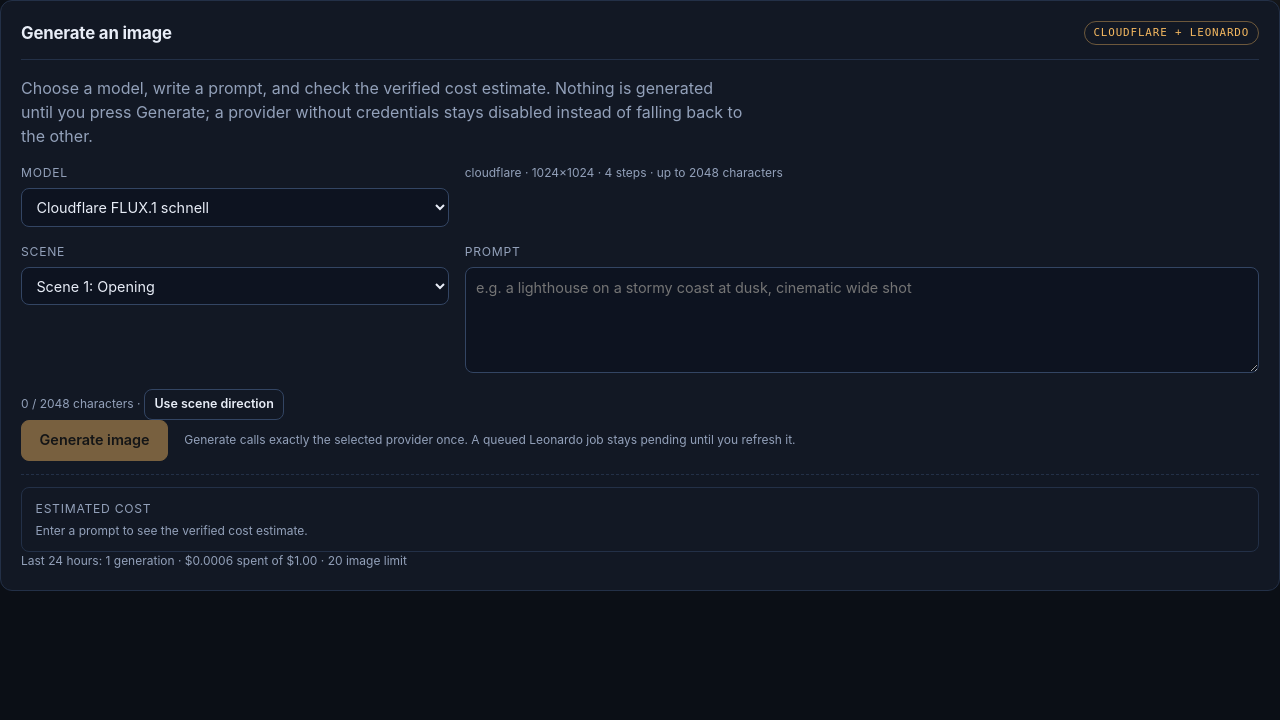
Test: GeneratePanel › shows the verified estimate and waits for an explicit Generate
Expected: the text named "Daily image spend" shows "$0.0006", x1=21 y1=553 x2=407 y2=568
Expected: the text named "Daily image spend" shows "20 image limit", x1=317 y1=553 x2=407 y2=568
Click the button "Use scene direction" at (214, 404), box x1=144 y1=389 x2=284 y2=420
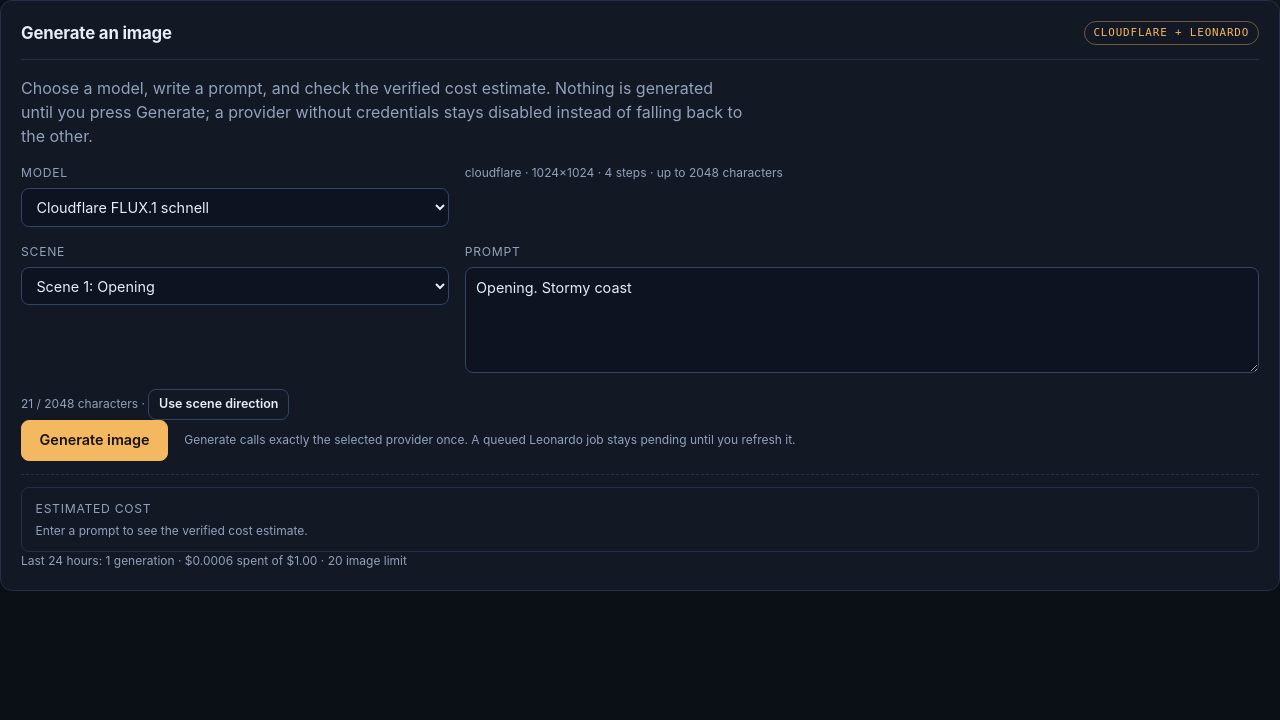
Expected: the text box labelled "Prompt" holds "Opening. Stormy coast"
Replace the text in the text box labelled "Prompt" with "a lighthouse on a stormy coast" at (862, 320), box x1=465 y1=267 x2=1259 y2=373
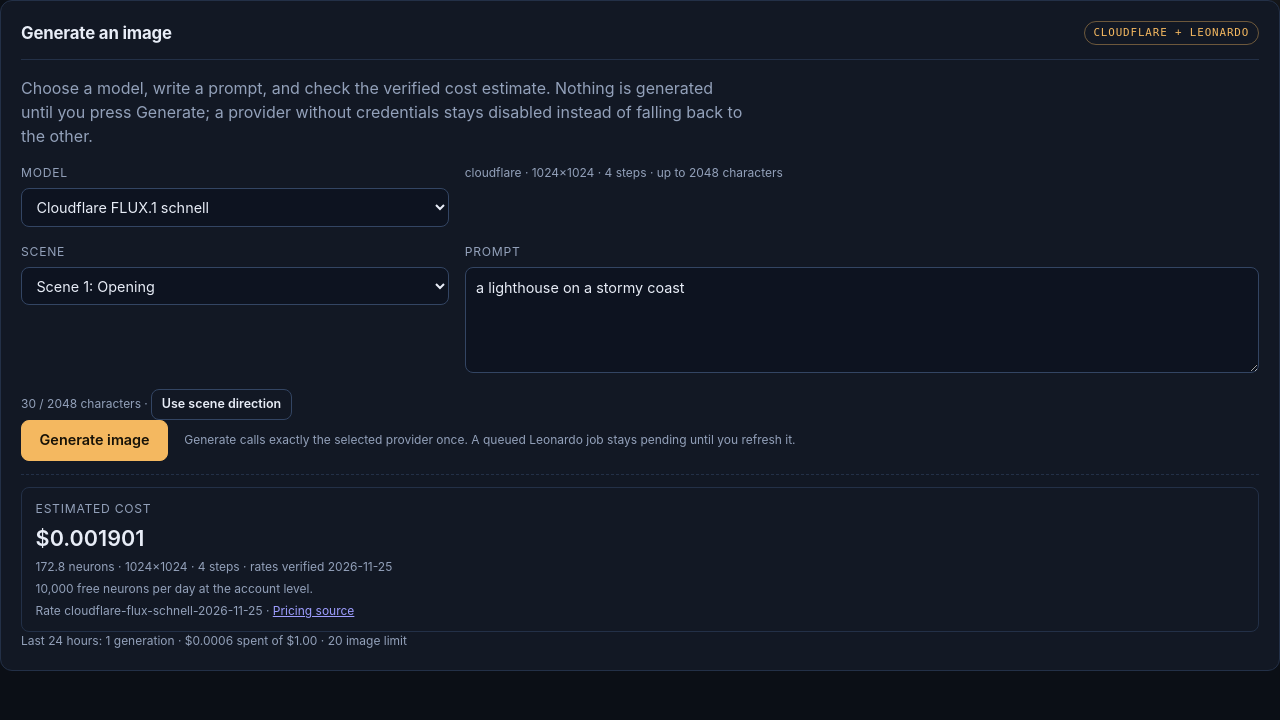
Expected: the text "$0.001901" is shown, x1=36 y1=525 x2=144 y2=551
Expected: the text "172.8 neurons" is shown, x1=36 y1=559 x2=125 y2=574
Expected: the text "rates verified 2026-11-25" is shown, x1=36 y1=559 x2=392 y2=574
